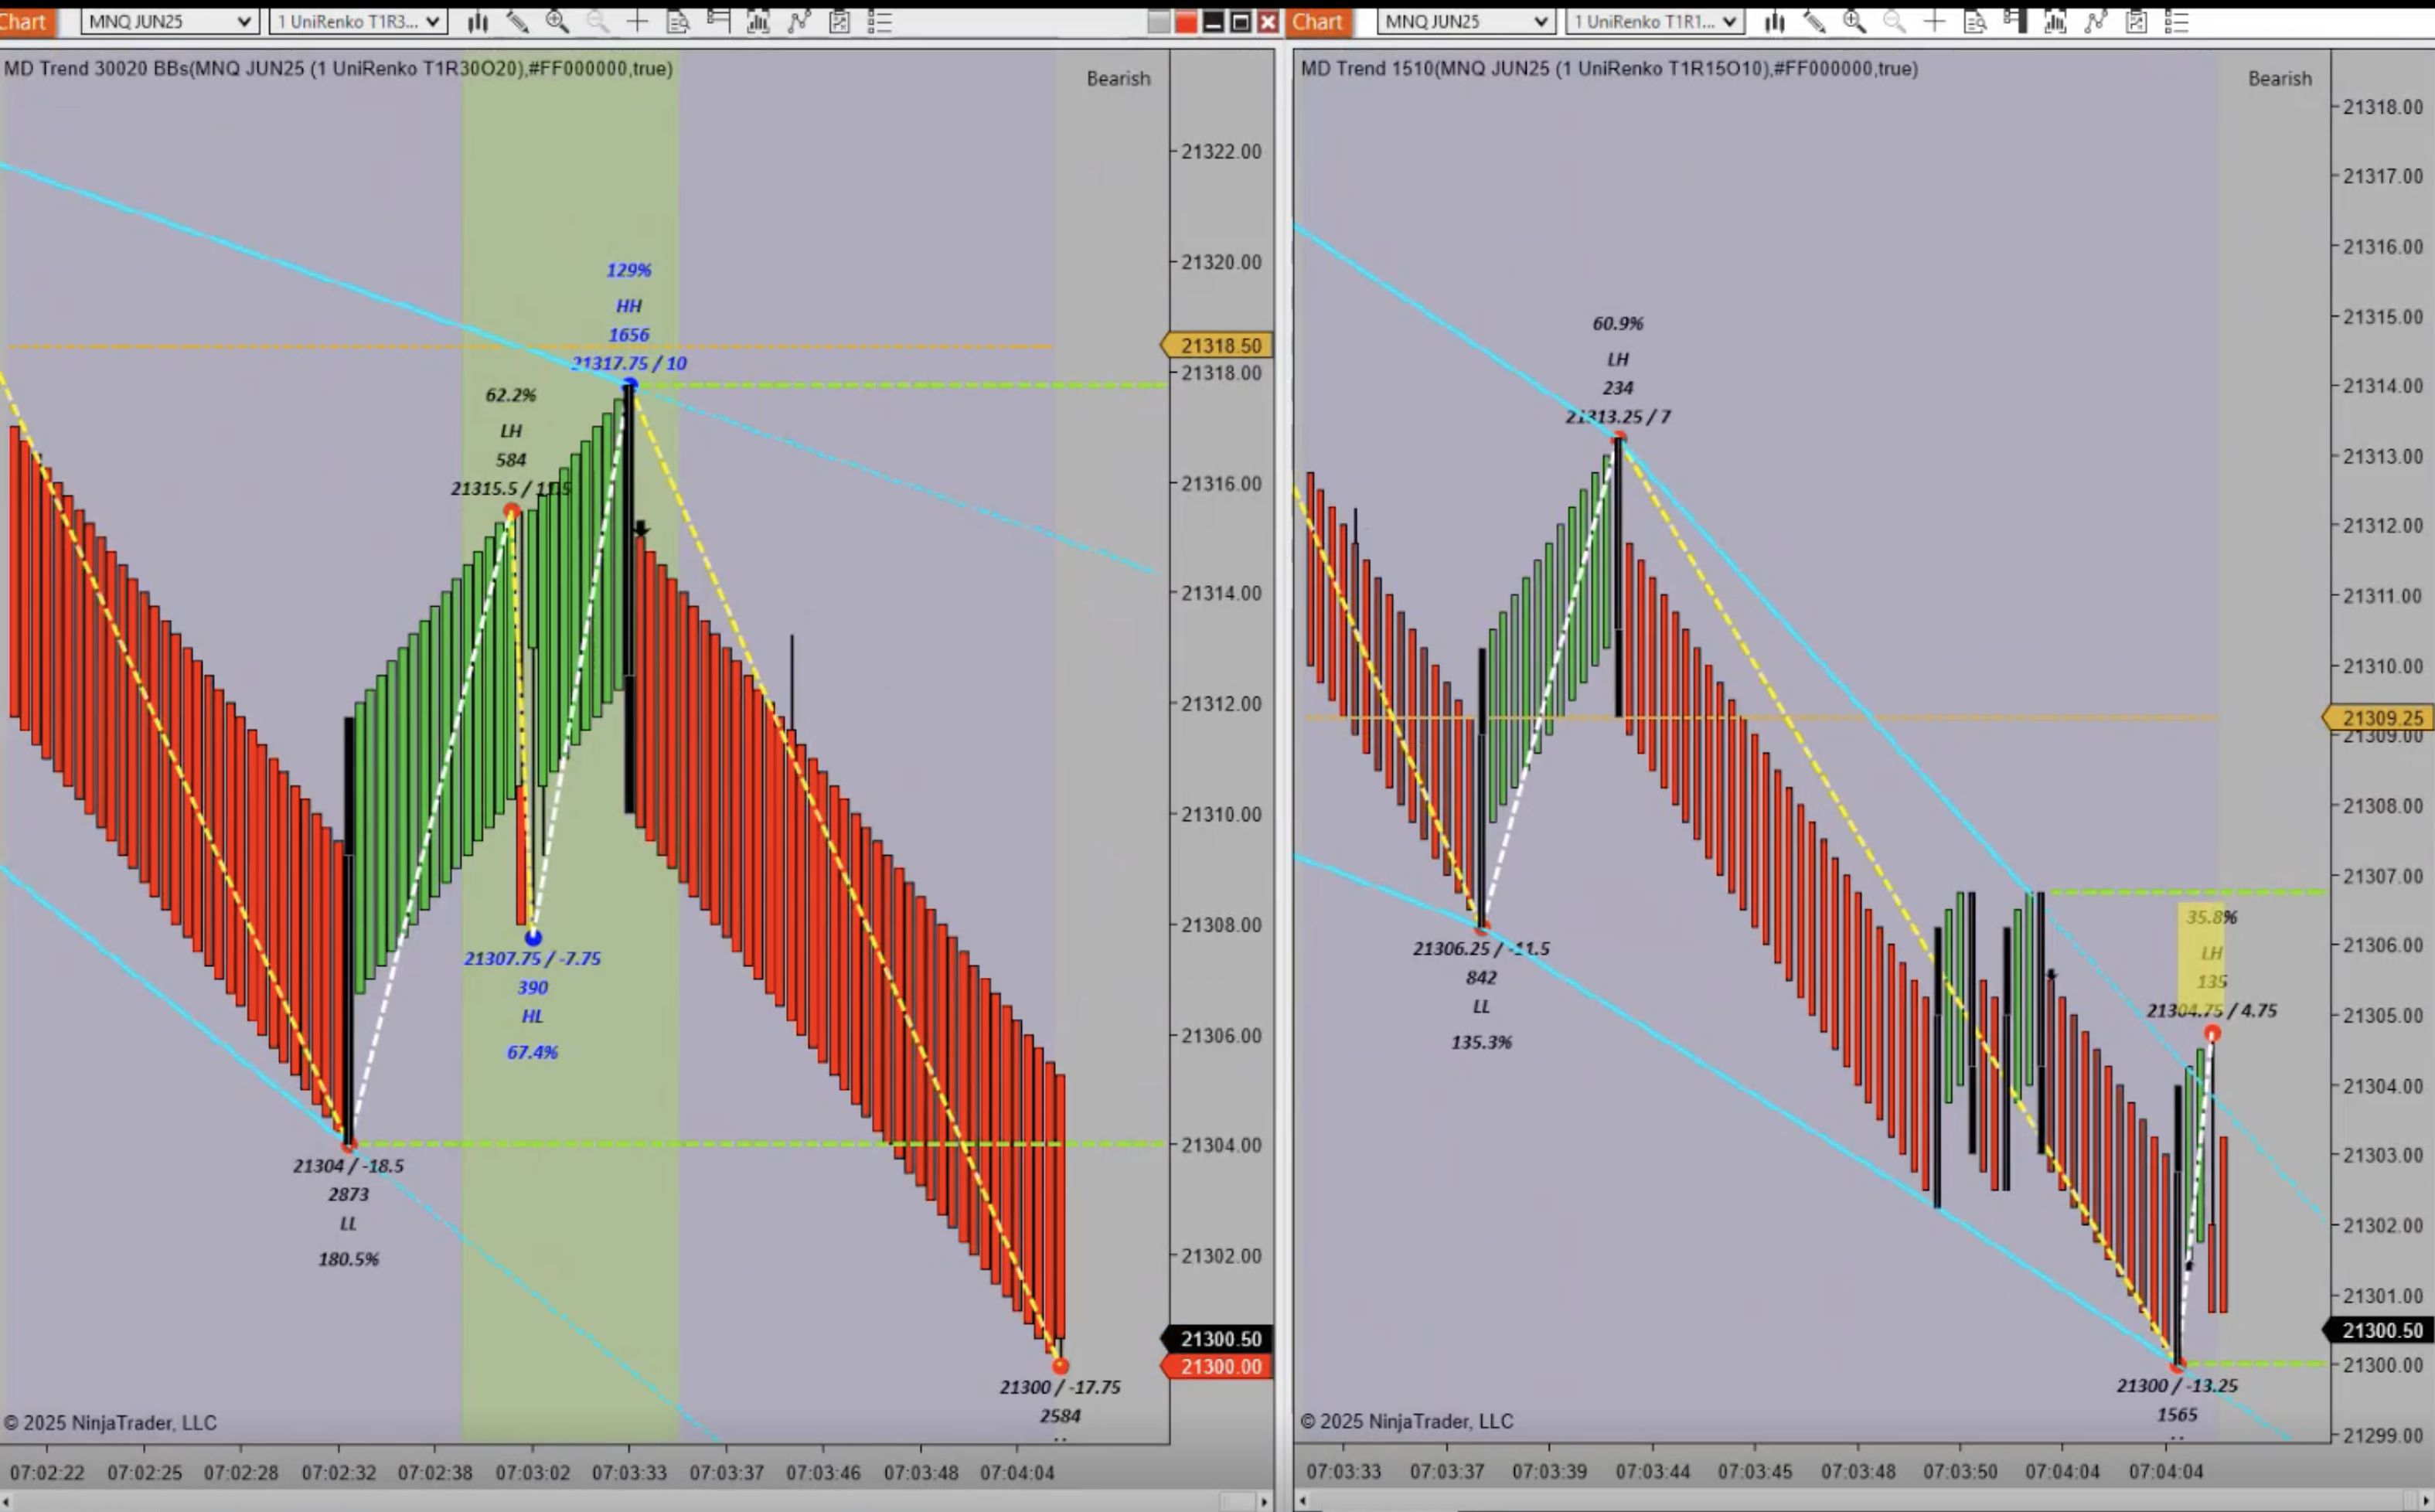candle: (622, 376, 646, 824), (340, 716, 364, 1150), (1613, 441, 1636, 728), (1930, 925, 1953, 1211), (2034, 885, 2057, 1160), (2170, 1085, 2191, 1362), (1963, 890, 1984, 1165), (2000, 925, 2020, 1198), (1477, 646, 1491, 925)
